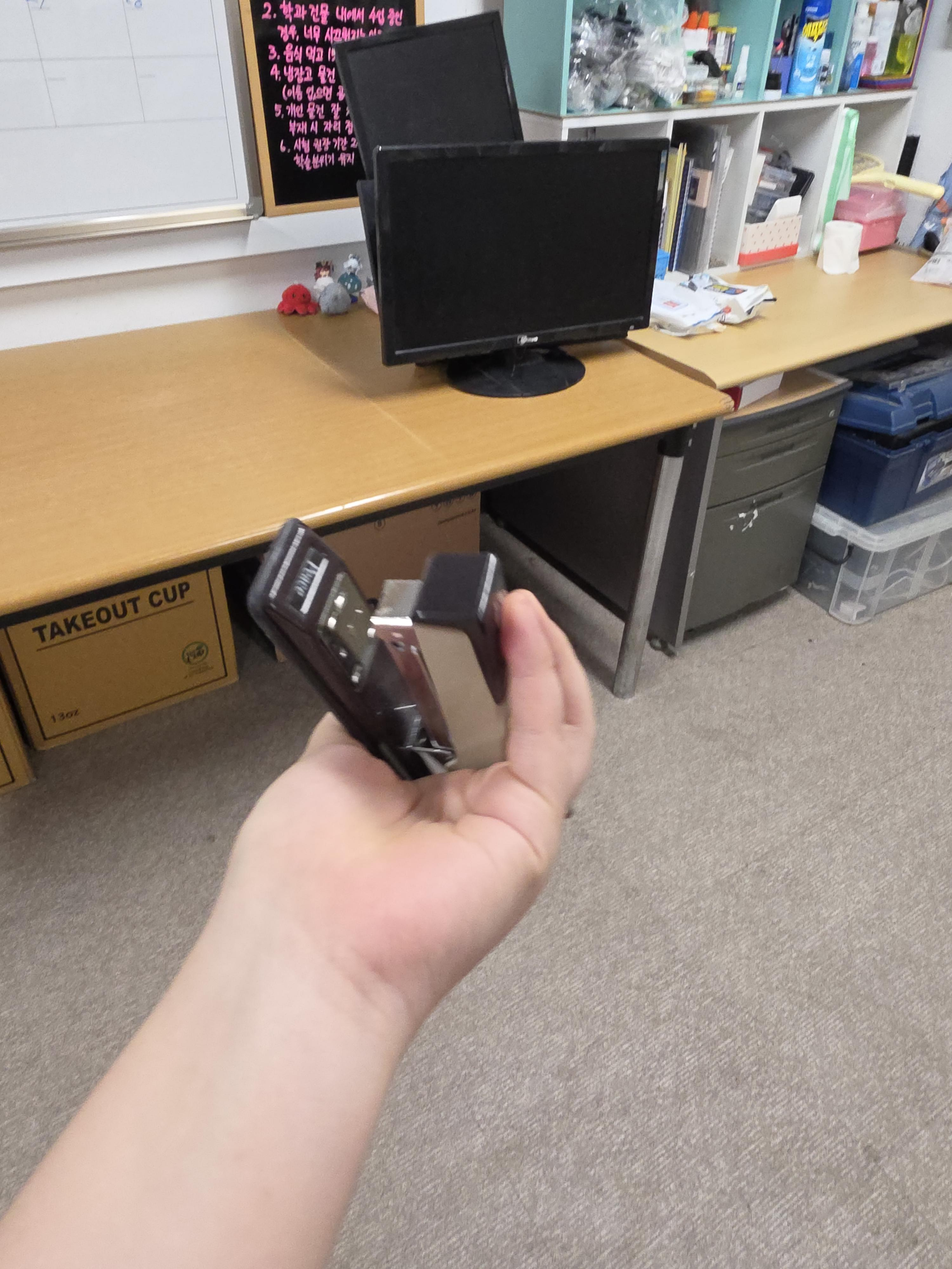stapler: (246, 517, 511, 782)
tissue: (816, 219, 864, 276)
